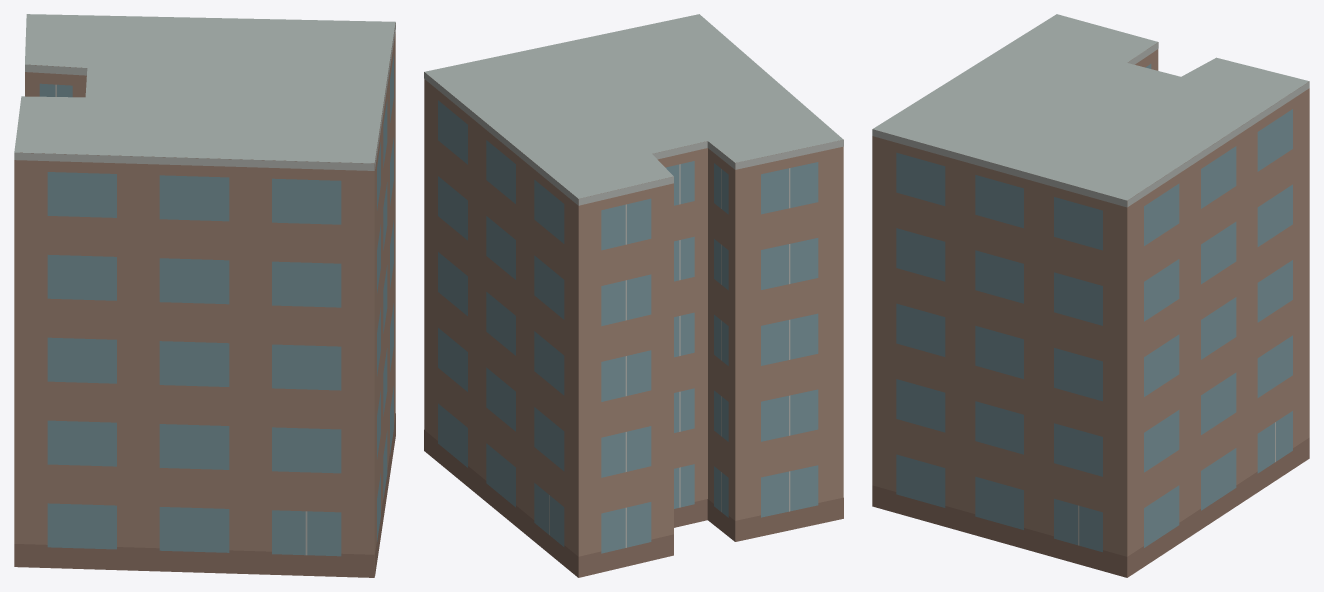
Rendered from survey-upis-32973801.glb.
3 renders of one model, left to right at view 1: azimuth 30°, elevation 25°; view 2: azimuth 150°, elevation 25°; view 3: azimuth 270°, elevation 25°, orthographic. The views are drawn at different scales.
Visible parts, largest first — view 1: survey-upis-32973801.tmp; view 2: survey-upis-32973801.tmp; view 3: survey-upis-32973801.tmp.
Boxes of the visible parts, <box> form: survey-upis-32973801.tmp: <box>14,14,395,577</box>; survey-upis-32973801.tmp: <box>424,14,843,577</box>; survey-upis-32973801.tmp: <box>872,14,1309,577</box>.
Bounding box in the file's own units: 14.17 × 13.35 × 14.03.
